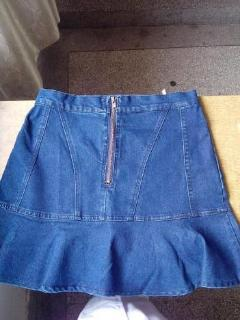skirt: (0, 88, 239, 298)
